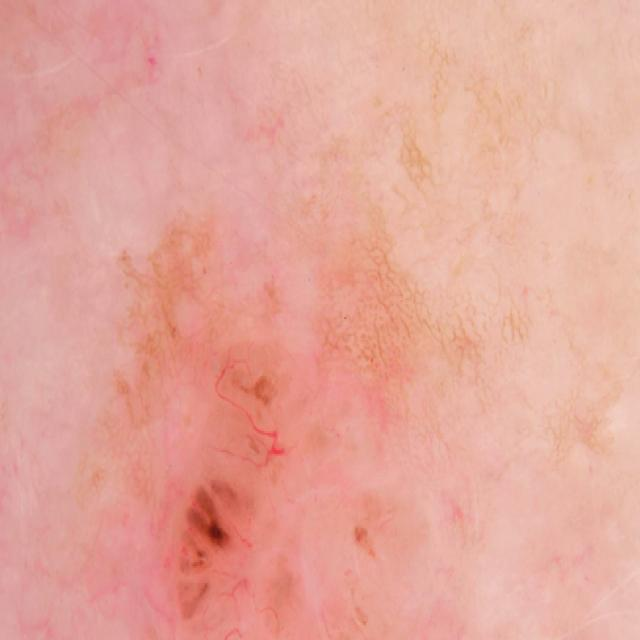Carcinoma: (121, 292, 321, 640)
